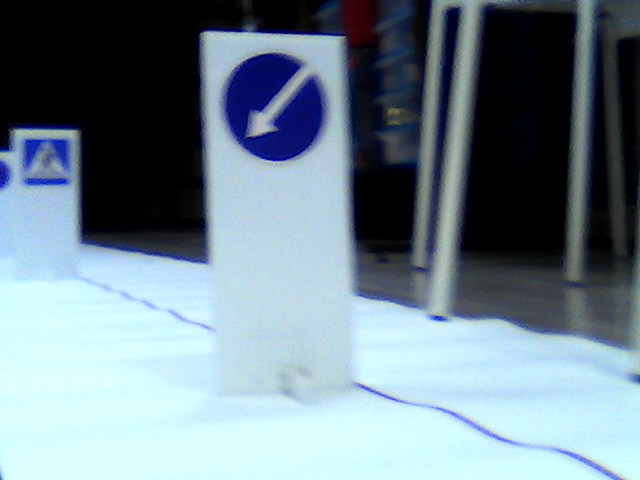pesh: (21, 138, 70, 184)
prep: (220, 48, 333, 163)
